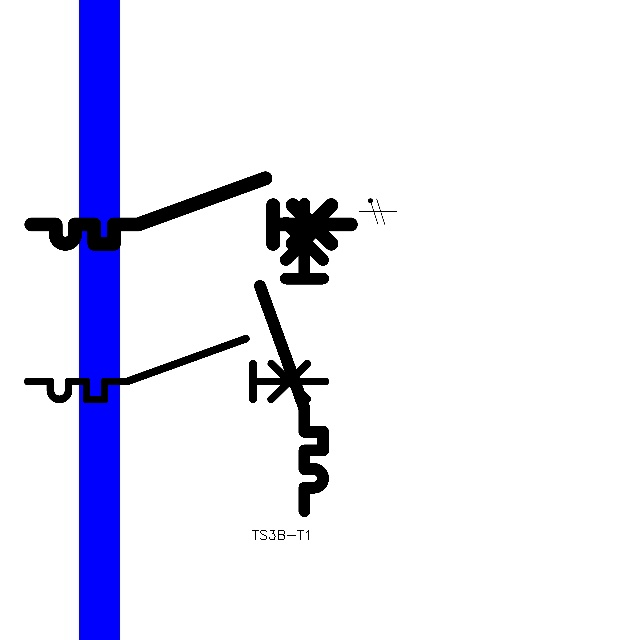interruptor_termomagnetico: (23, 170, 359, 252), (252, 196, 331, 519), (20, 331, 333, 407)
